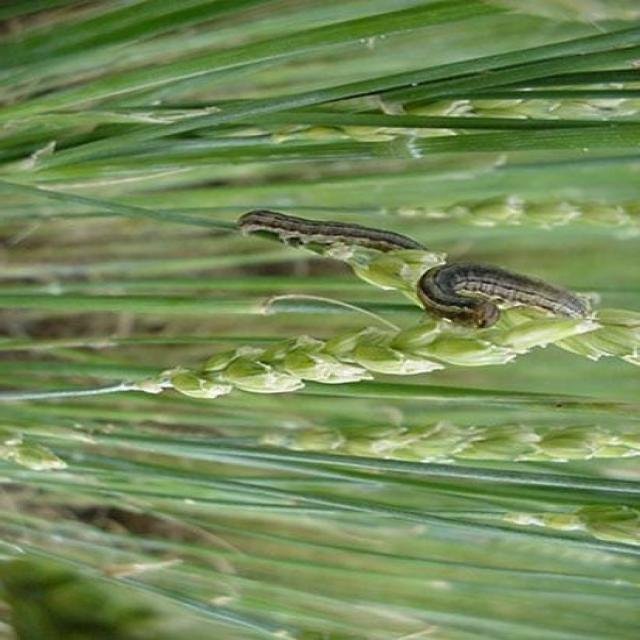army worm: (410, 257, 596, 348), (230, 205, 441, 274)
